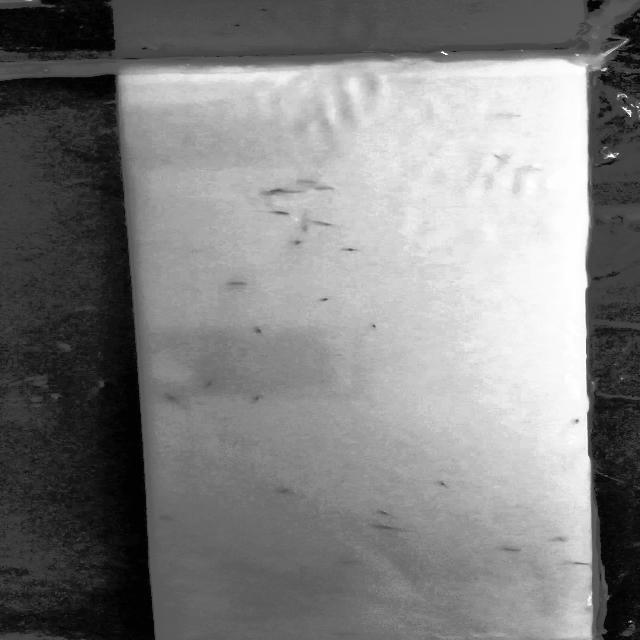shrimp: (485, 538, 535, 562), (253, 482, 307, 501), (366, 521, 422, 538), (279, 233, 317, 252), (306, 214, 344, 233), (428, 472, 457, 494), (260, 182, 302, 196), (155, 392, 187, 408), (264, 200, 292, 218), (220, 277, 262, 289), (243, 393, 275, 408), (367, 506, 405, 518), (337, 242, 368, 256), (194, 378, 224, 392), (246, 324, 274, 338), (365, 321, 389, 336), (315, 292, 339, 306)
